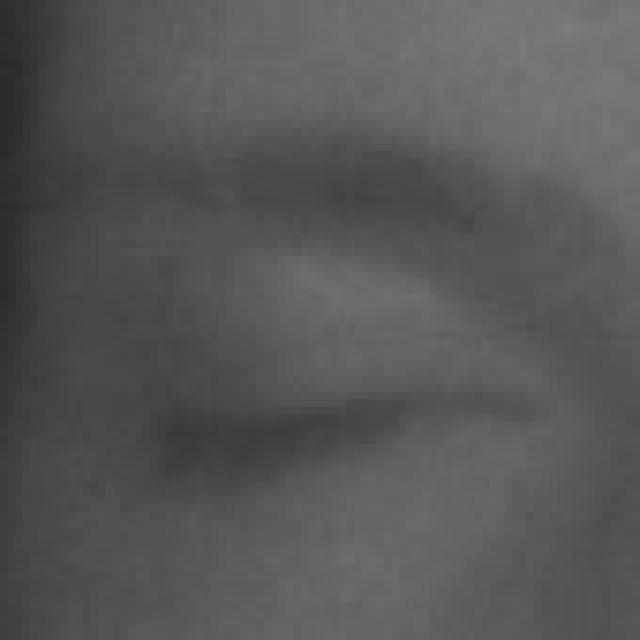Eyeclosed: (127, 296, 549, 575)
